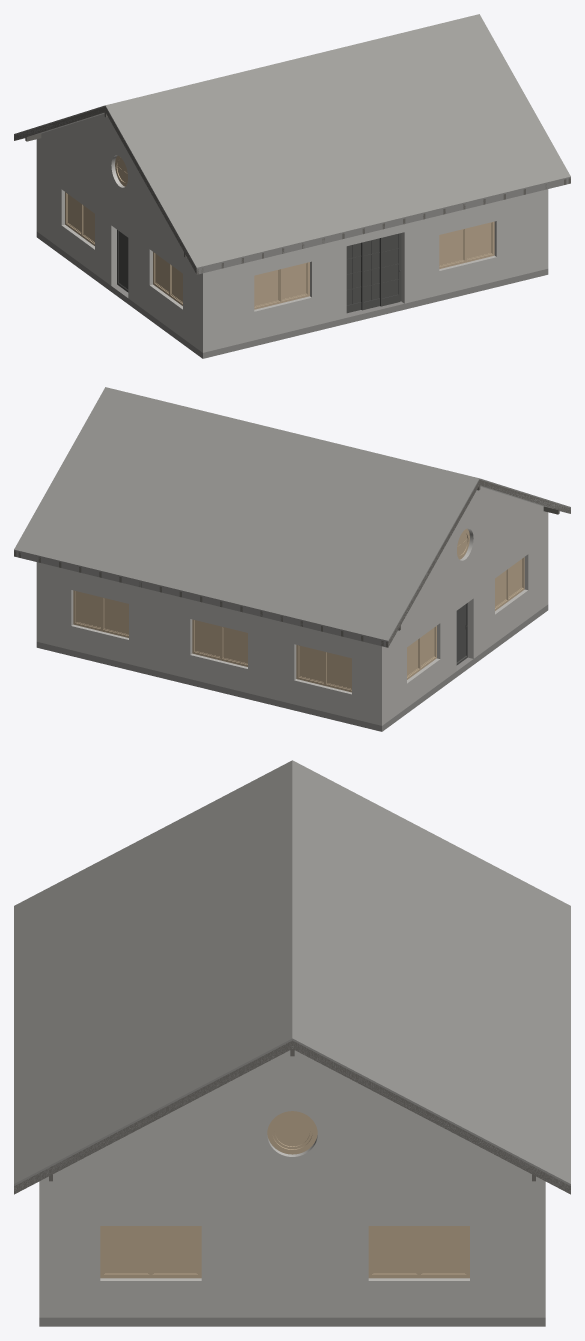
The model's file is haus.glb.
3 views of the same model, one above another, from view 1: azimuth 30°, elevation 25°; view 2: azimuth 150°, elevation 25°; view 3: azimuth 270°, elevation 25° (orthographic). The views are drawn at different scales.
Parts seen in each view (by area): view 1: IfcSlab_59753, IfcWallStandardCase_27421, IfcWallStandardCase_21966, IfcWallStandardCase_60012, IfcDoor_31079, IfcSlab_34509, IfcWindow_28113, IfcWindow_27833, IfcWindow_23944, IfcWindow_23024, IfcDoor_27013, IfcMember_37833 (+2 smaller); view 2: IfcSlab_59553, IfcWallStandardCase_32407, IfcWallStandardCase_21966, IfcWallStandardCase_60012, IfcSlab_34509, IfcWindow_32829, IfcWindow_33389, IfcWindow_33109, IfcWindow_23944, IfcWindow_23024, IfcDoor_27013, IfcMember_37710 (+2 smaller); view 3: IfcSlab_59553, IfcSlab_59753, IfcWallStandardCase_31470, IfcWallStandardCase_67828, IfcWindow_32098, IfcWindow_31818, IfcSlab_34509, IfcMember_37026, IfcMember_40293, IfcWindow_74280.
Boxes of the visible parts, <box> form: IfcSlab_59753: <box>105,14,570,274</box>; IfcWallStandardCase_27421: <box>203,189,548,352</box>; IfcWallStandardCase_21966: <box>36,150,202,352</box>; IfcWallStandardCase_60012: <box>36,113,188,260</box>; IfcDoor_31079: <box>346,233,401,313</box>; IfcSlab_34509: <box>36,231,548,358</box>; IfcWindow_28113: <box>439,221,494,268</box>; IfcWindow_27833: <box>254,262,309,309</box>; IfcWindow_23944: <box>153,252,182,305</box>; IfcWindow_23024: <box>65,192,94,245</box>; IfcDoor_27013: <box>117,230,128,292</box>; IfcMember_37833: <box>105,107,198,274</box>; IfcSlab_59553: <box>14,387,479,647</box>; IfcWallStandardCase_32407: <box>36,562,381,725</box>; IfcWallStandardCase_21966: <box>382,523,548,725</box>; IfcWallStandardCase_60012: <box>396,486,548,633</box>; IfcSlab_34509: <box>36,604,548,731</box>; IfcWindow_32829: <box>296,645,351,692</box>; IfcWindow_33389: <box>73,590,128,637</box>; IfcWindow_33109: <box>192,619,247,666</box>; IfcWindow_23944: <box>495,557,524,610</box>; IfcWindow_23024: <box>407,626,436,679</box>; IfcDoor_27013: <box>456,603,467,665</box>; IfcMember_37710: <box>386,480,479,647</box>; IfcSlab_59553: <box>292,760,570,1193</box>; IfcSlab_59753: <box>14,760,292,1193</box>; IfcWallStandardCase_31470: <box>39,1193,545,1317</box>; IfcWallStandardCase_67828: <box>39,1050,545,1193</box>; IfcWindow_32098: <box>100,1226,201,1278</box>; IfcWindow_31818: <box>368,1226,469,1278</box>; IfcSlab_34509: <box>39,1317,545,1326</box>; IfcMember_37026: <box>292,1040,570,1194</box>; IfcMember_40293: <box>14,1041,292,1194</box>; IfcWindow_74280: <box>267,1111,317,1154</box>.
Size of the model in its own units: 13 by 6.52 by 11.
